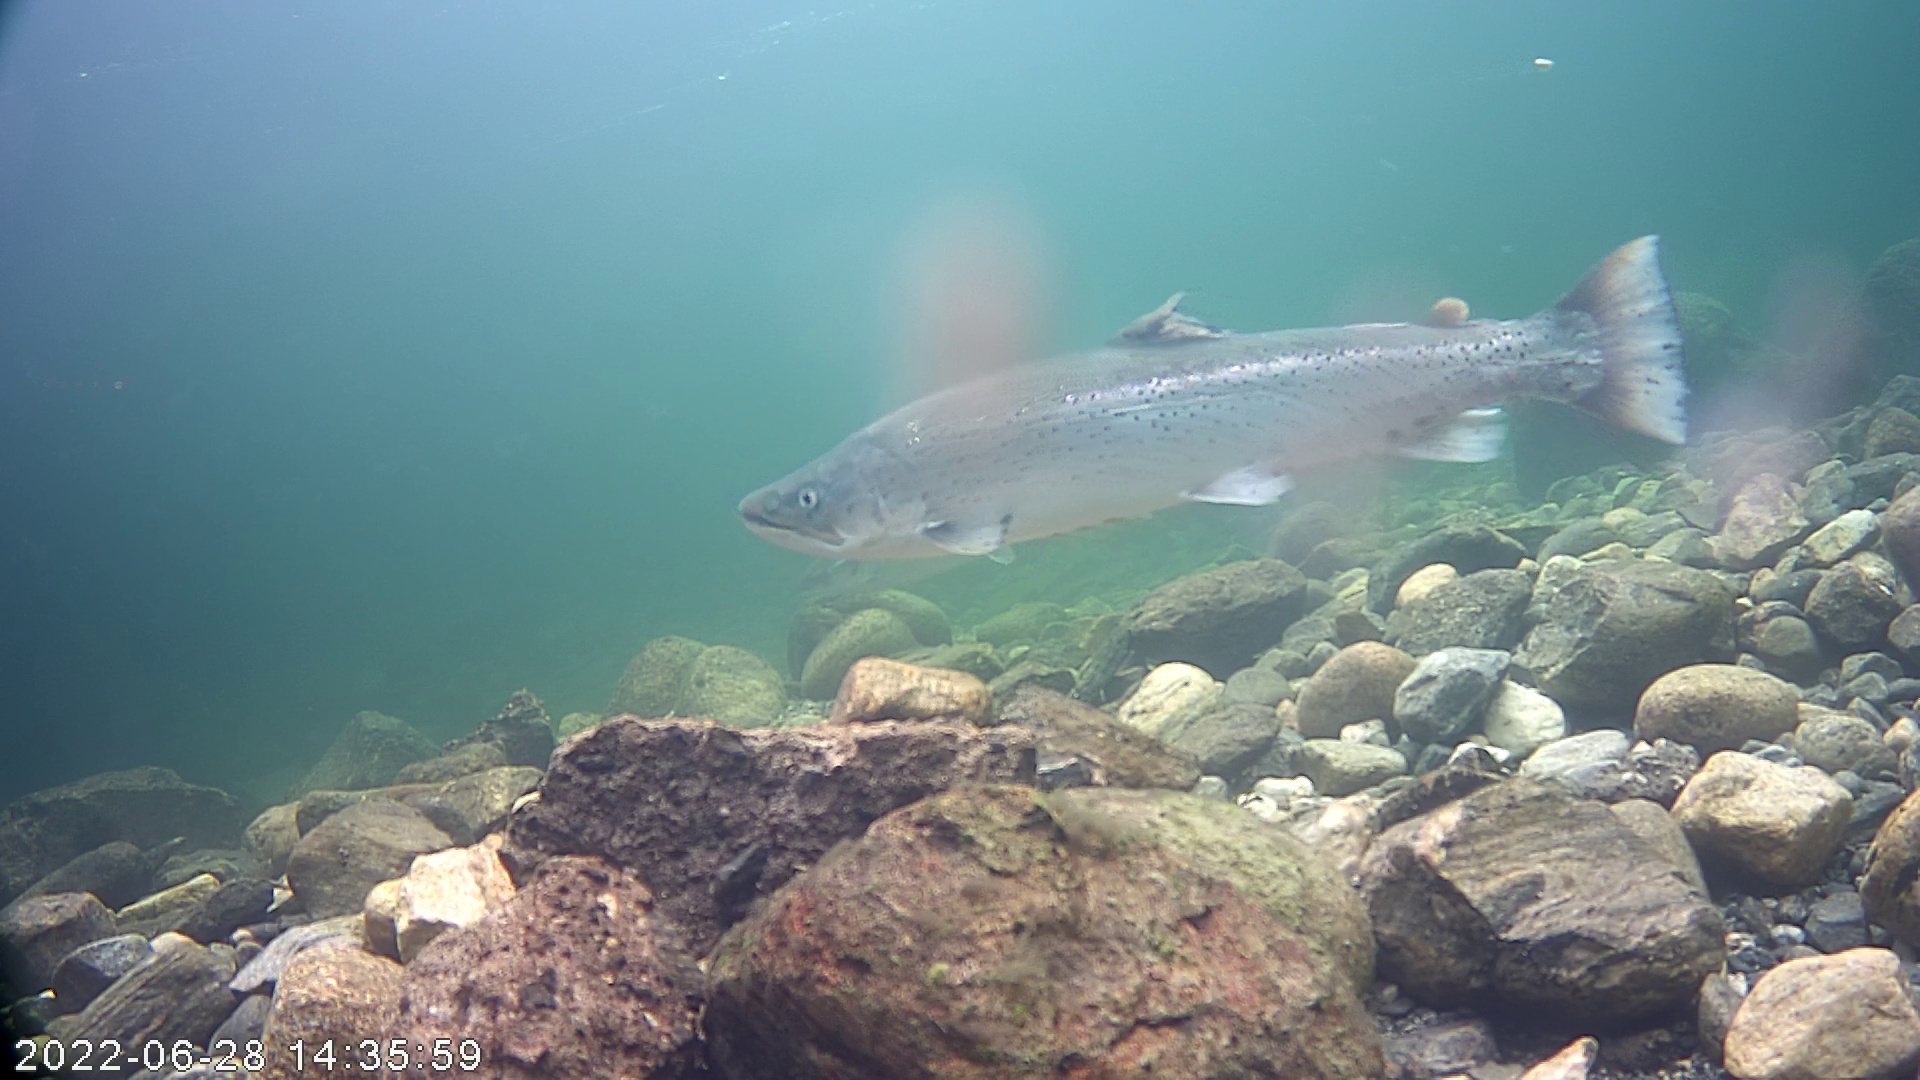salmon: (720, 190, 1724, 574)
